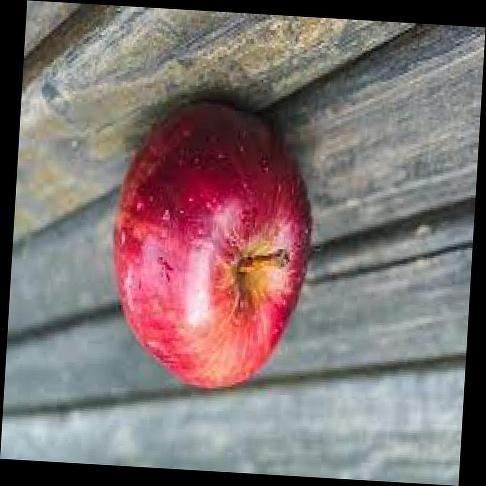red apple: (111, 100, 311, 395)
